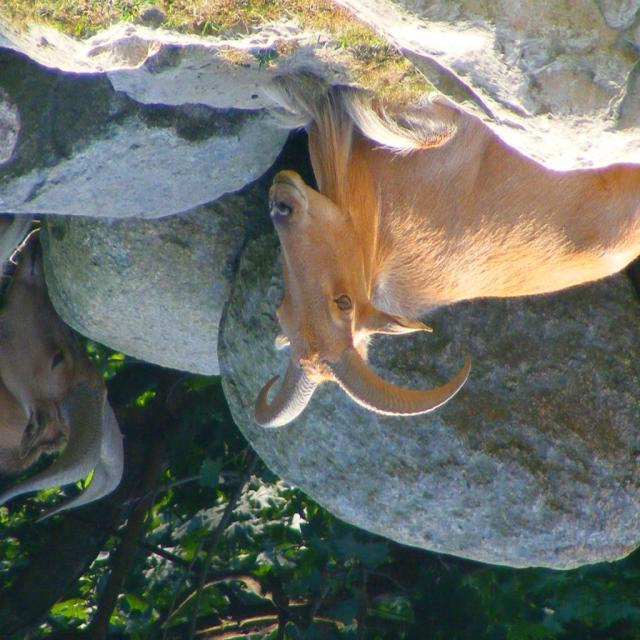Goat: (253, 73, 639, 431), (0, 219, 124, 526)
